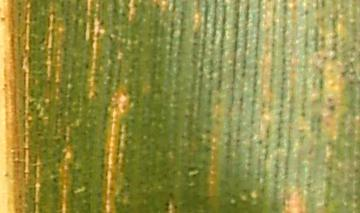tarspot: (327, 104, 336, 112), (327, 96, 334, 103), (84, 64, 90, 70)
